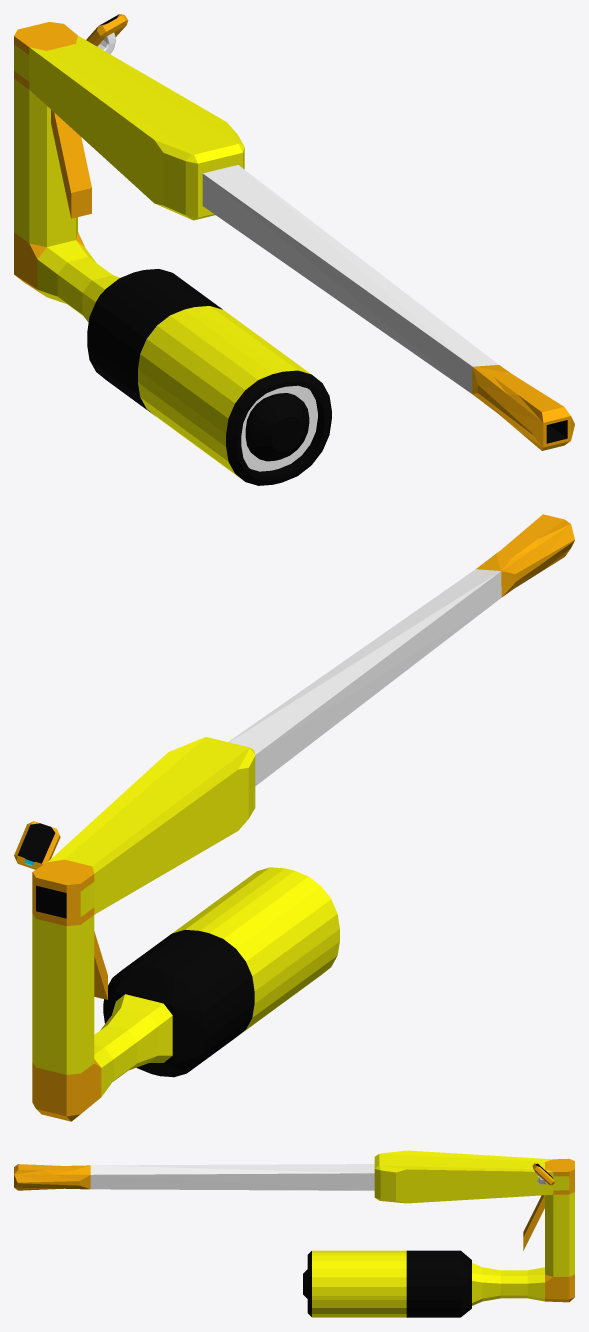
Rendered from not_floppy_blaster.dae.
3 views of the same model, one above another, from view 1: azimuth 30°, elevation 25°; view 2: azimuth 150°, elevation 25°; view 3: azimuth 270°, elevation 25° (orthographic). The views are drawn at different scales.
Parts seen in each view (by area): view 1: Cube; view 2: Cube; view 3: Cube.
Part boxes in pixels (left/top/right/bottom): Cube: left=14, top=14, right=574, bottom=485; Cube: left=14, top=514, right=574, bottom=1121; Cube: left=14, top=1150, right=574, bottom=1317.
Size of the model in its own units: 0.4782 by 3.84 by 1.22.
